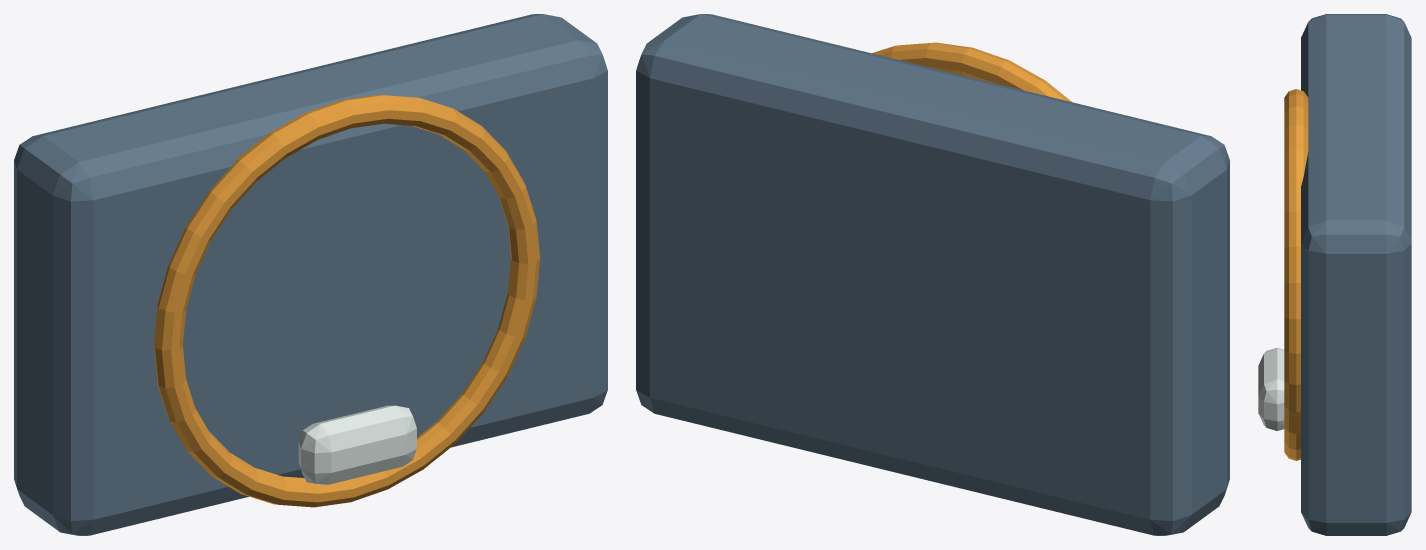
The model's file is CC_S16_P2_Product_CloudRunnerCase_LOD0.fbx.
3 views of the same model, side by side, from view 1: azimuth 30°, elevation 25°; view 2: azimuth 150°, elevation 25°; view 3: azimuth 270°, elevation 25° (orthographic). The views are drawn at different scales.
Parts seen in each view (by area): view 1: CC_S16_P2_Product_CloudRunnerCase_LOD0_Shell, CC_S16_P2_Product_CloudRunnerCase_LOD0_Seam, CC_S16_P2_Product_CloudRunnerCase_LOD0_Latch; view 2: CC_S16_P2_Product_CloudRunnerCase_LOD0_Shell, CC_S16_P2_Product_CloudRunnerCase_LOD0_Seam; view 3: CC_S16_P2_Product_CloudRunnerCase_LOD0_Shell, CC_S16_P2_Product_CloudRunnerCase_LOD0_Seam, CC_S16_P2_Product_CloudRunnerCase_LOD0_Latch.
Part boxes in pixels (x1,y1,x2,y2): CC_S16_P2_Product_CloudRunnerCase_LOD0_Shell: [14, 14, 607, 535]; CC_S16_P2_Product_CloudRunnerCase_LOD0_Seam: [153, 94, 539, 507]; CC_S16_P2_Product_CloudRunnerCase_LOD0_Latch: [298, 405, 416, 484]; CC_S16_P2_Product_CloudRunnerCase_LOD0_Shell: [636, 14, 1229, 535]; CC_S16_P2_Product_CloudRunnerCase_LOD0_Seam: [872, 42, 1071, 101]; CC_S16_P2_Product_CloudRunnerCase_LOD0_Shell: [1301, 14, 1411, 535]; CC_S16_P2_Product_CloudRunnerCase_LOD0_Seam: [1284, 89, 1308, 460]; CC_S16_P2_Product_CloudRunnerCase_LOD0_Latch: [1258, 347, 1284, 430].
Size of what is drawn, in the model's own units: 0.17 by 0.118 by 0.0485.
